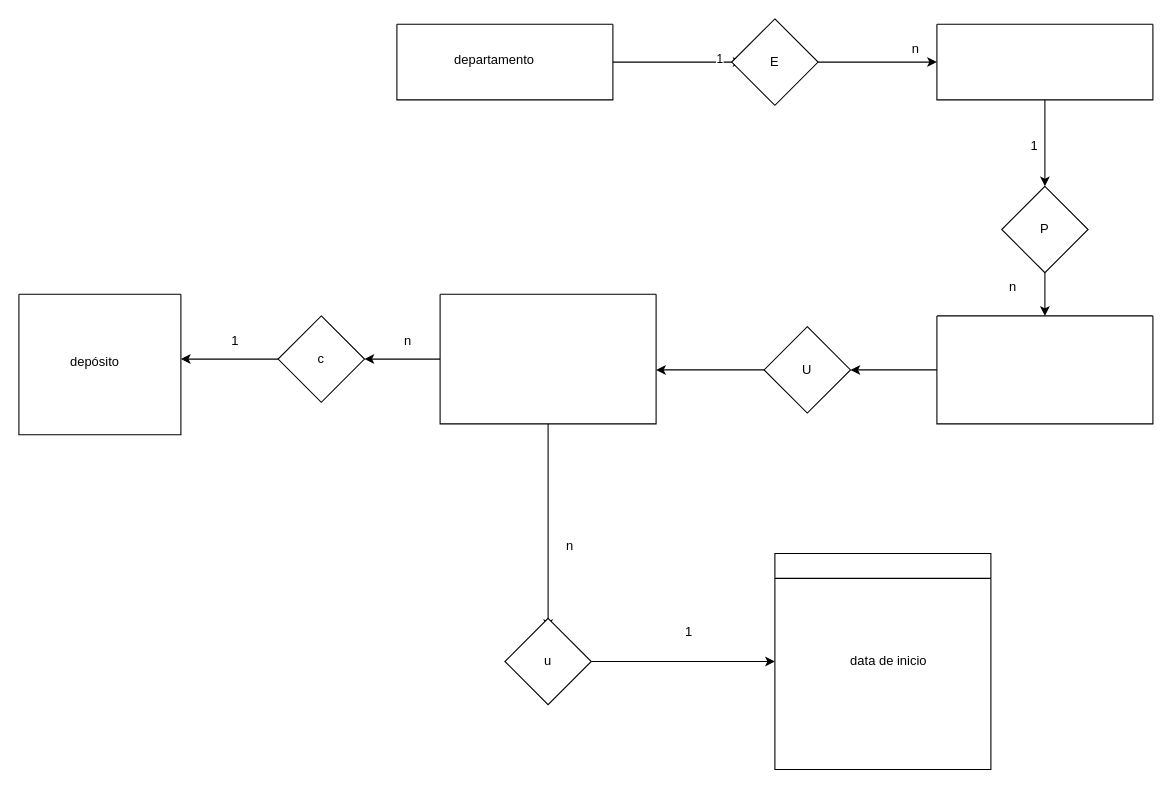
Image size: 1172x788. Some labels were removed from this diagram. Each missing label, with the box of its shape:
fornecedores: (774, 552, 991, 770)
funcionario: (936, 23, 1153, 100)
peças: (439, 293, 656, 424)
projeto: (936, 315, 1153, 424)
